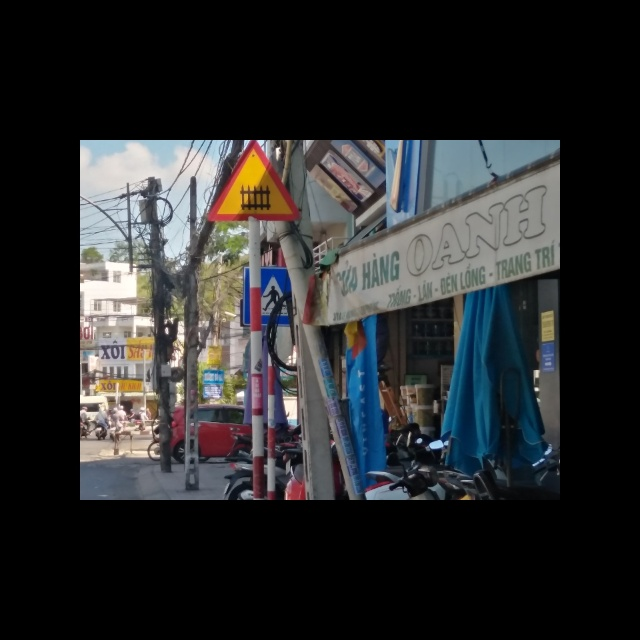Giao nhau với đường sắt có rào chắn: (204, 140, 301, 221)
